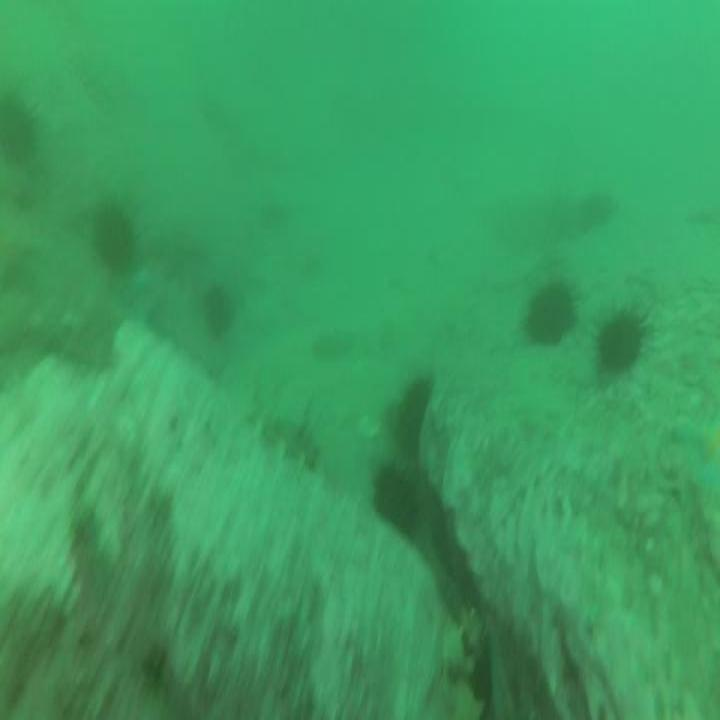echinus: (370, 455, 428, 549), (591, 300, 651, 382), (523, 268, 578, 354), (393, 367, 438, 470), (90, 199, 142, 276), (0, 91, 39, 169), (200, 274, 235, 343)
holothurian: (247, 396, 323, 473), (447, 601, 487, 720)
